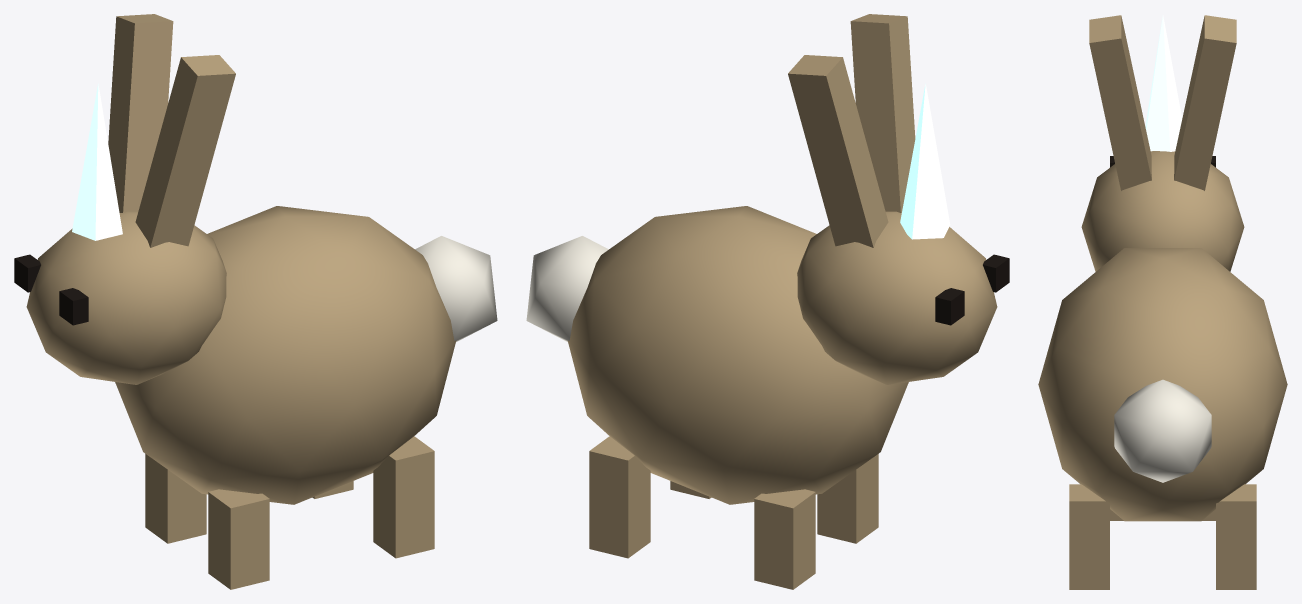
The model's file is hare.glb.
3 views of the same model, side by side, from view 1: azimuth 30°, elevation 25°; view 2: azimuth 150°, elevation 25°; view 3: azimuth 270°, elevation 25° (orthographic). The views are drawn at different scales.
Parts seen in each view (by area): view 1: body, head, legBL, legFL, horn, legFR; view 2: body, head, legBR, legFR, horn, legFL; view 3: body, head, legBL, legBR, horn.
Boxes of the visible parts, x1=… form: body: x1=115, y1=206, x2=497, y2=504; head: x1=14, y1=14, x2=235, y2=384; legBL: x1=373, y1=436, x2=434, y2=558; legFL: x1=208, y1=489, x2=269, y2=589; horn: x1=72, y1=83, x2=122, y2=240; legFR: x1=145, y1=454, x2=206, y2=543; body: x1=526, y1=206, x2=908, y2=504; head: x1=788, y1=14, x2=1009, y2=384; legBR: x1=589, y1=436, x2=650, y2=558; legFR: x1=754, y1=489, x2=815, y2=589; horn: x1=900, y1=83, x2=950, y2=239; legFL: x1=817, y1=454, x2=878, y2=543; body: x1=1038, y1=248, x2=1287, y2=521; head: x1=1081, y1=15, x2=1244, y2=271; legBL: x1=1069, y1=484, x2=1109, y2=589; legBR: x1=1216, y1=484, x2=1256, y2=589; horn: x1=1145, y1=15, x2=1182, y2=151.
Size of the model in its own units: 0.5767 by 0.6441 by 0.306.
